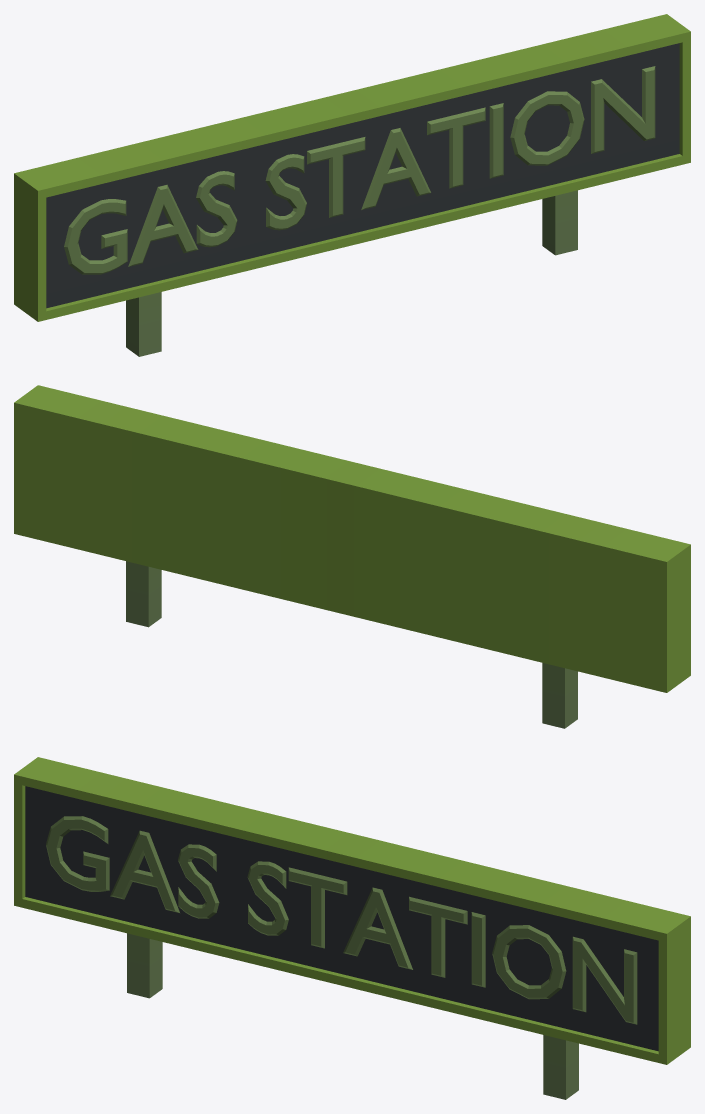
Rendered from Banner_27.fbx.
The picture shows the model from 3 angles, top to bottom: view 1: azimuth 30°, elevation 25°; view 2: azimuth 150°, elevation 25°; view 3: azimuth 330°, elevation 25°; orthographic projection.
Visible parts, largest first — view 1: Banner_27; view 2: Banner_27; view 3: Banner_27.
Boxes of the visible parts, box(x1,y1,x2,y2) form: Banner_27: box(14, 14, 690, 356); Banner_27: box(14, 385, 690, 728); Banner_27: box(14, 757, 690, 1099).
Size of the model in its own units: 4.39 by 1.26 by 0.2801.
